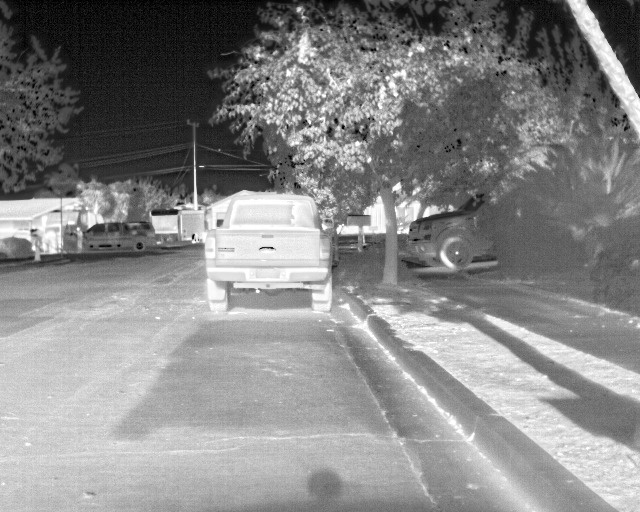vehicle: (198, 188, 339, 314), (407, 189, 523, 276), (81, 215, 160, 259)
